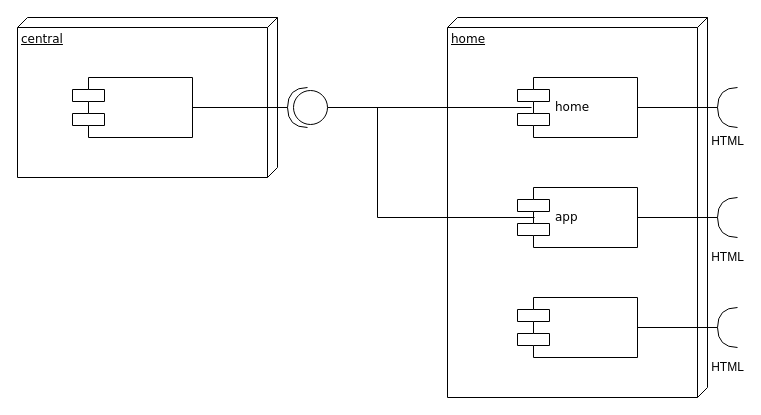
Some shapes in this 761 by 415 pixel diagram are drawn without their labels. Here are the shapes that lost their labels. From the top down, the centre of each, then its label:
At [132,107]: "Identity".
At [577,327]: "about".
